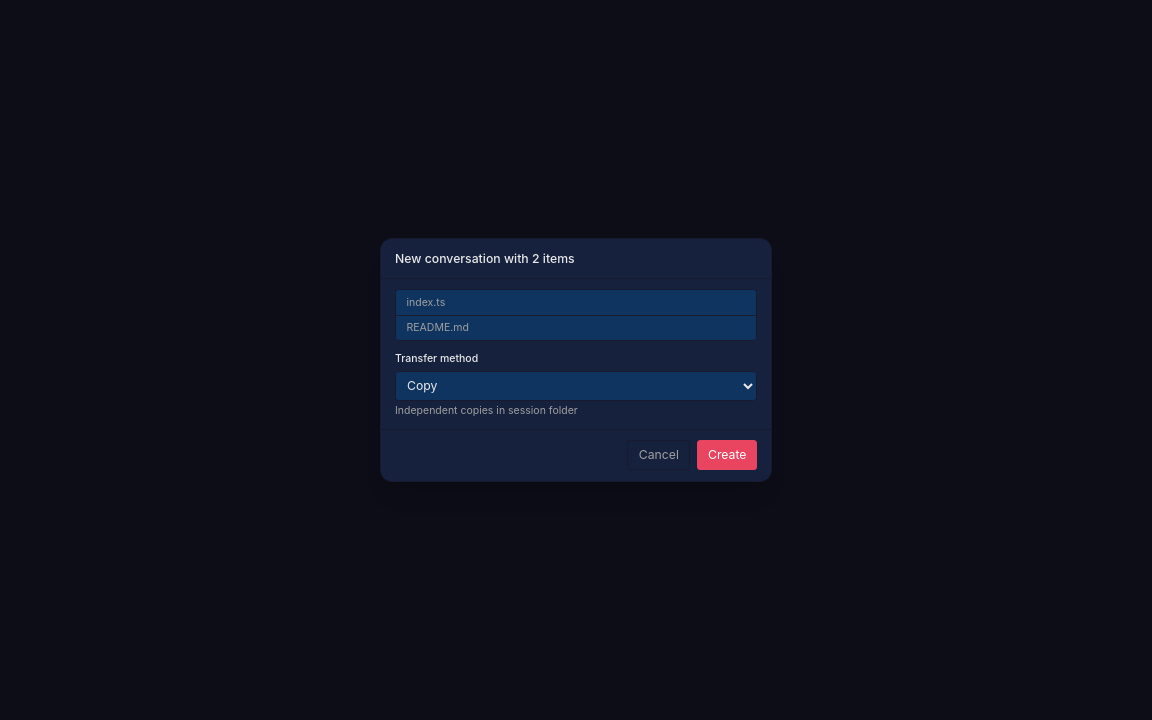
Test: NewConversationFromFilesModal › shows fallback error for non-Error rejections
This screenshot has width=1152, height=720.
What coordinates should you click on to do the following:
click the button "Create"
I would click on:
 (727, 455)
Its box is left=698, top=440, right=757, bottom=470.
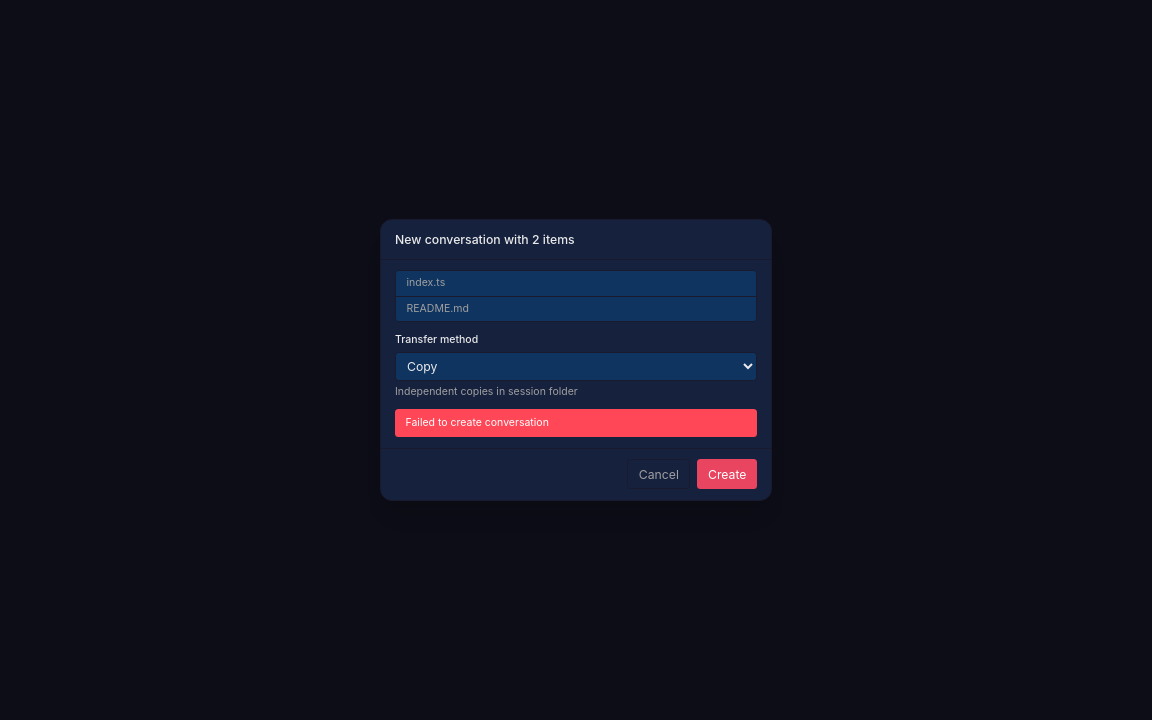
Expected: the message reads "Failed to create conversation", left=406, top=416, right=549, bottom=429
